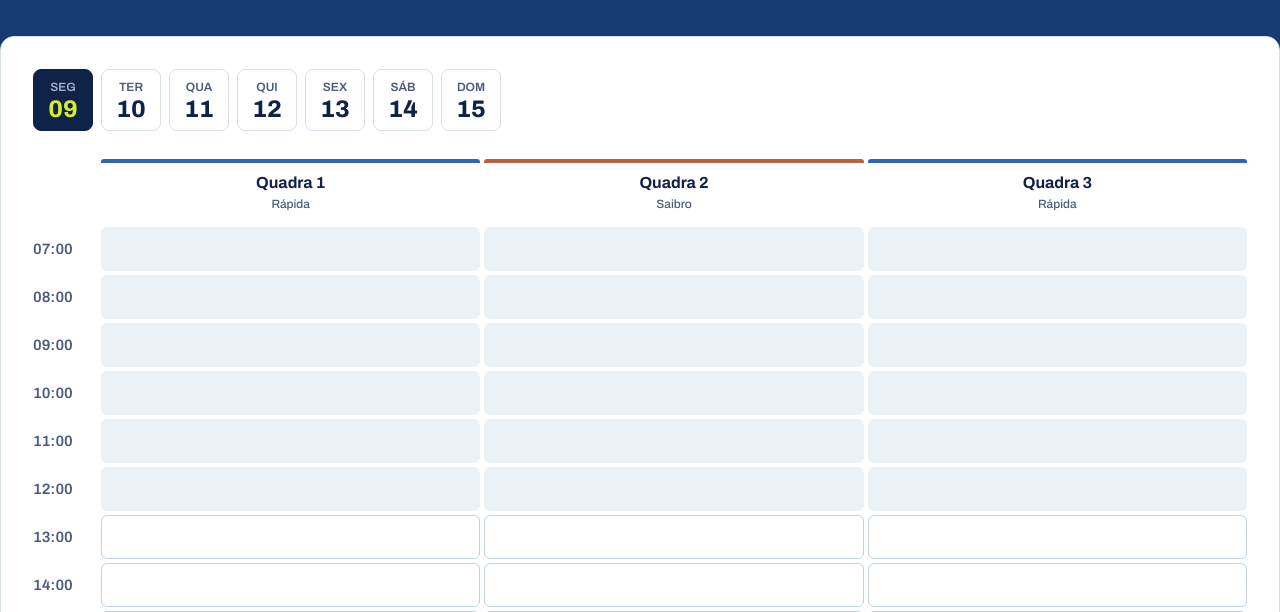
SchedulePage › mostra o estado ocupado para reserva de outra pessoa
Click the button "TER 10" at (131, 100), box [101, 69, 161, 132]
(page scrolled)
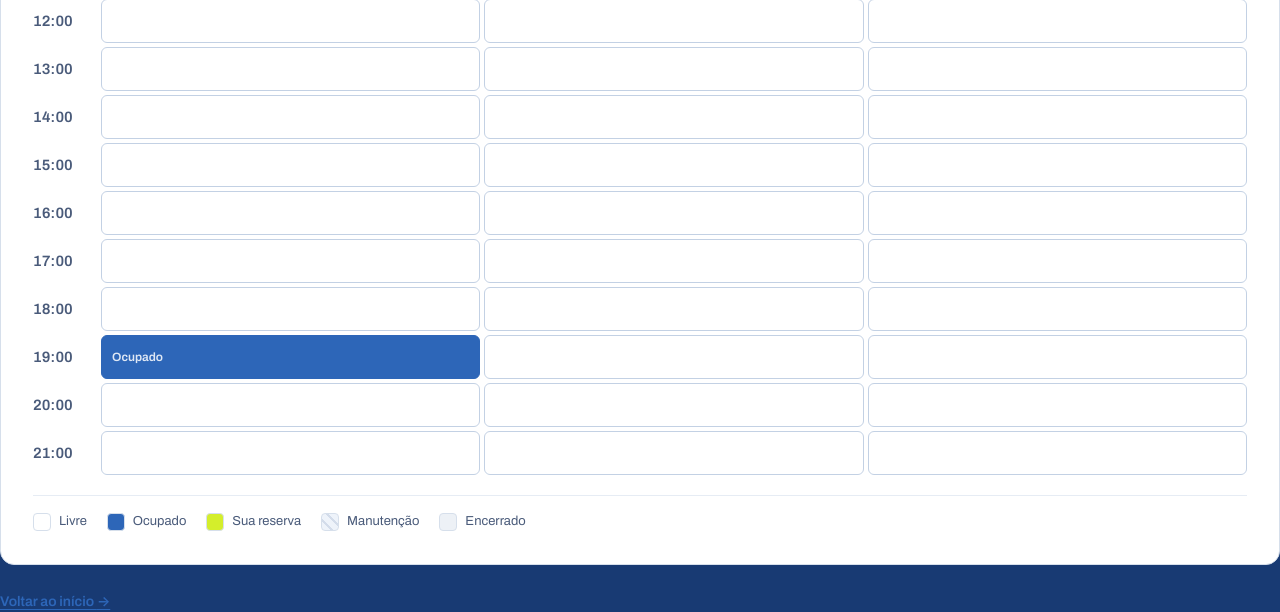
Expected: the button named "Quadra 1, 19:00, ocupado" is shown, [101, 336, 480, 380]
